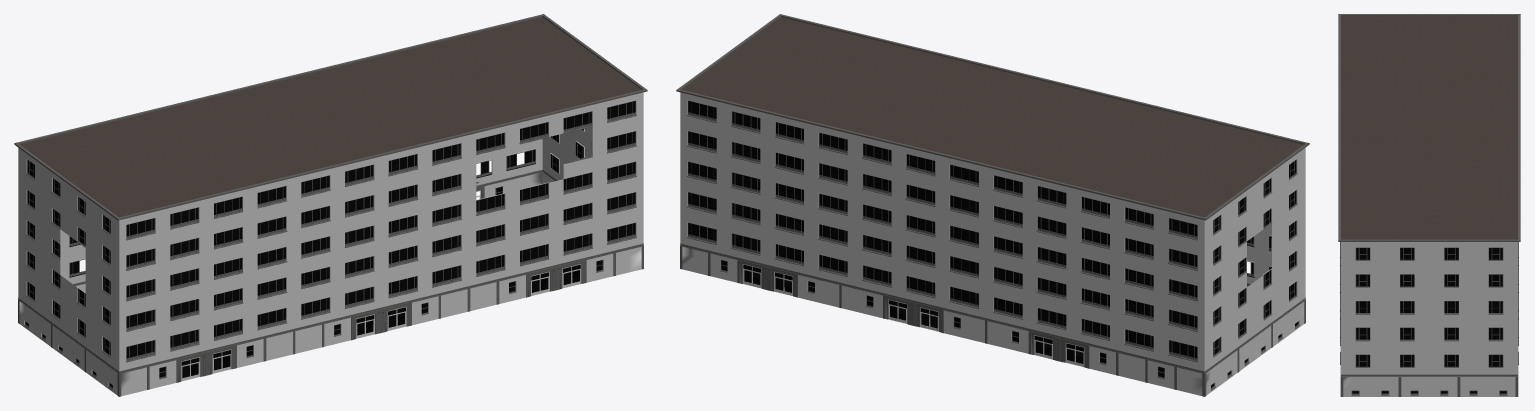
Rendered from building8mod.fbx.
3 renders of one model, left to right at view 1: azimuth 30°, elevation 25°; view 2: azimuth 150°, elevation 25°; view 3: azimuth 270°, elevation 25°, orthographic. The views are drawn at different scales.
Visible parts, largest first — view 1: building_9_middle, building_9_roof, building_9_bottom; view 2: building_9_middle, building_9_roof, building_9_bottom; view 3: building_9_roof, building_9_middle, building_9_bottom.
Part boxes in pixels (<box>): building_9_middle: <box>18,92,643,371</box>; building_9_roof: <box>14,14,647,220</box>; building_9_bottom: <box>18,169,643,396</box>; building_9_middle: <box>680,92,1305,371</box>; building_9_roof: <box>676,14,1309,220</box>; building_9_bottom: <box>680,243,1305,396</box>; building_9_roof: <box>1338,14,1520,241</box>; building_9_middle: <box>1340,242,1518,374</box>; building_9_bottom: <box>1340,346,1518,396</box>.
Size of the model in its own units: 10900 by 3529 by 3700.
